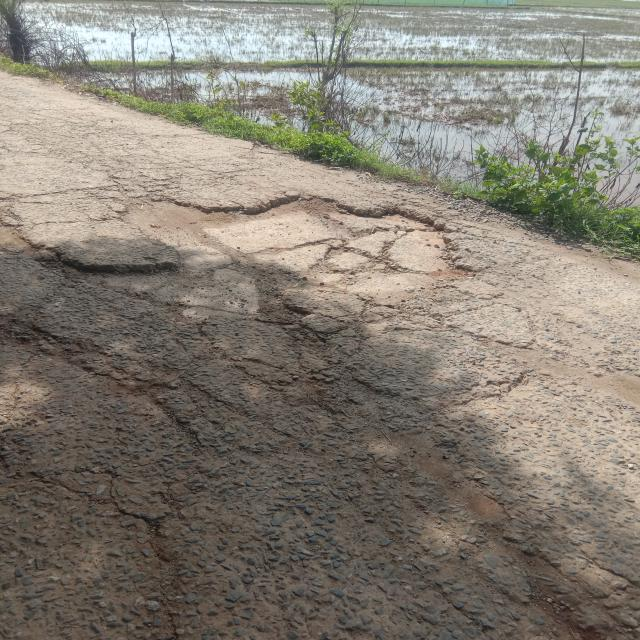cracks: (12, 426, 640, 639)
potholes: (0, 193, 487, 346)
